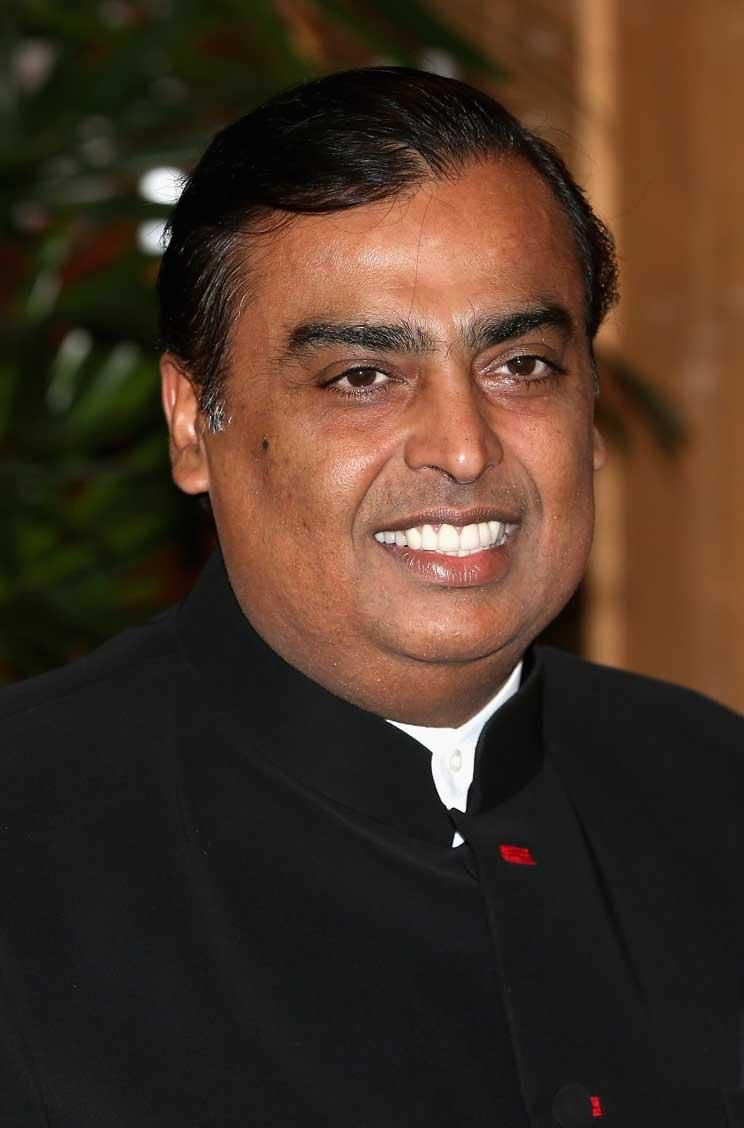noMask: (140, 70, 641, 704)
